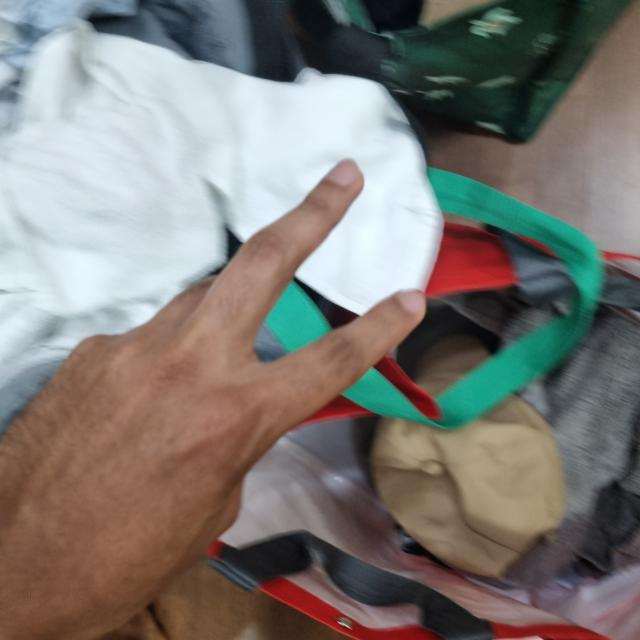Scissors: (0, 160, 428, 639)
